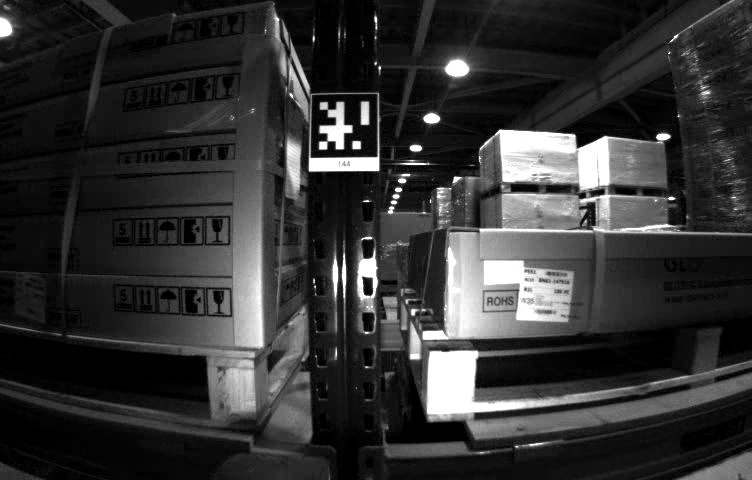True Barcode: (521, 267, 573, 326), (13, 273, 53, 329)
